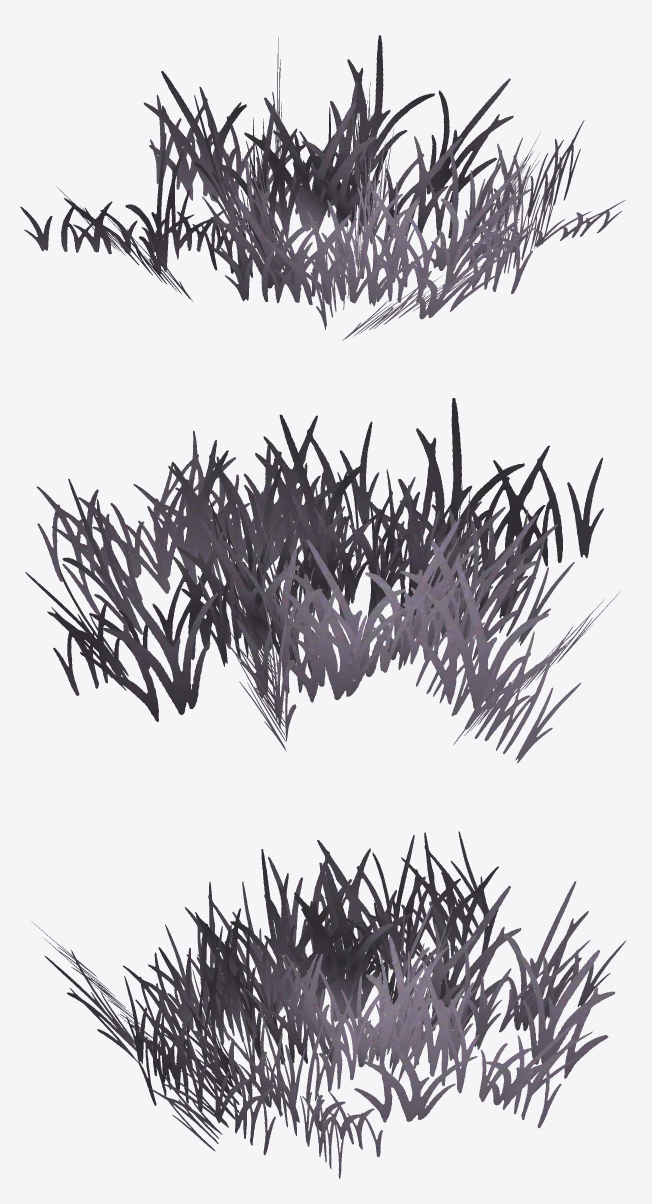
The picture shows the model from 3 angles, top to bottom: view 1: azimuth 30°, elevation 25°; view 2: azimuth 150°, elevation 25°; view 3: azimuth 270°, elevation 25°; orthographic projection. The views are drawn at different scales.
Visible parts, largest first — view 1: SM_FH_GrassShort_01_LOD0; view 2: SM_FH_GrassShort_01_LOD0; view 3: SM_FH_GrassShort_01_LOD0.
Boxes of the visible parts, x1,y1,x2,y2 form: SM_FH_GrassShort_01_LOD0: [20, 35, 625, 340]; SM_FH_GrassShort_01_LOD0: [25, 398, 620, 763]; SM_FH_GrassShort_01_LOD0: [31, 831, 625, 1178].
Size of the model in its own units: 1.19 by 0.3527 by 1.09.
1 material, 1 textured.
